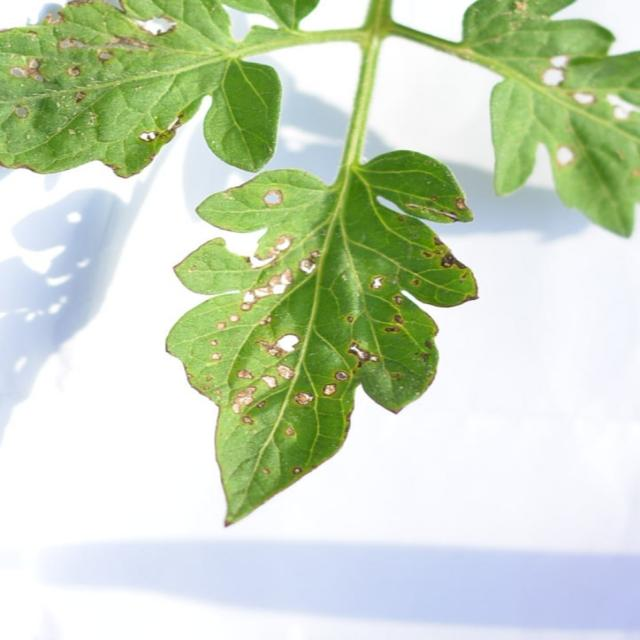infected: (213, 179, 470, 438), (12, 0, 185, 141), (533, 49, 640, 182)
